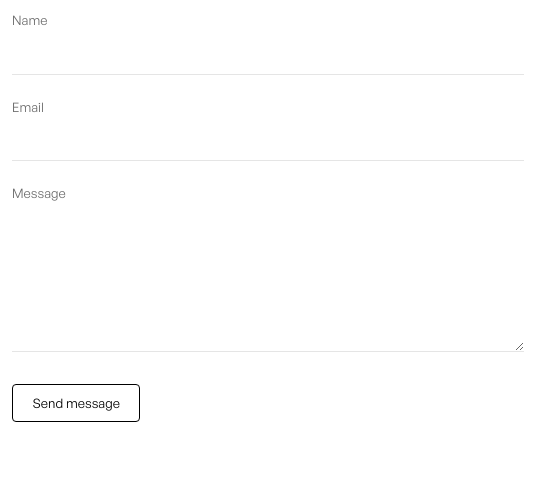
Test: ContactForm › shows the success copy when the request succeeds
Type "Jane" into the field labelled "Name" at (268, 56), box [12,37,524,75]
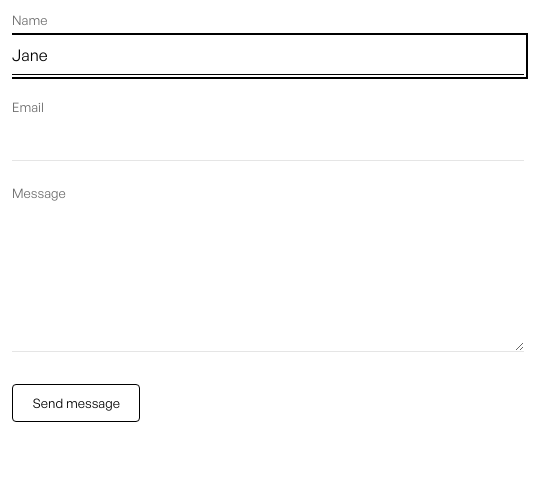
Type "jane@example.com" into the field labelled "Email" at (268, 142), box [12,124,524,161]
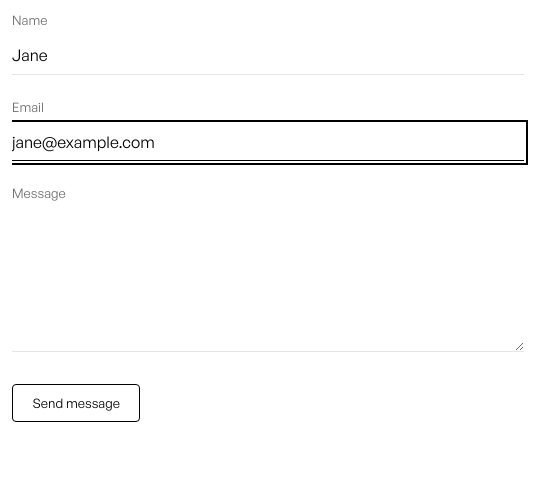
Type "Hello there" into the text box labelled "Message" at (268, 281), box [12,210,524,352]
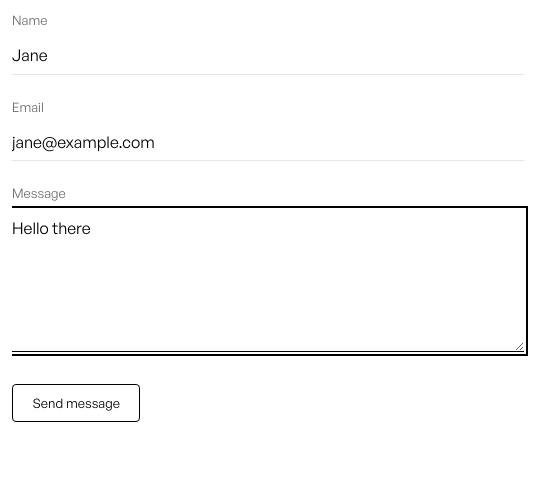
Click the button "Send message" at (76, 403), box [12,384,140,422]
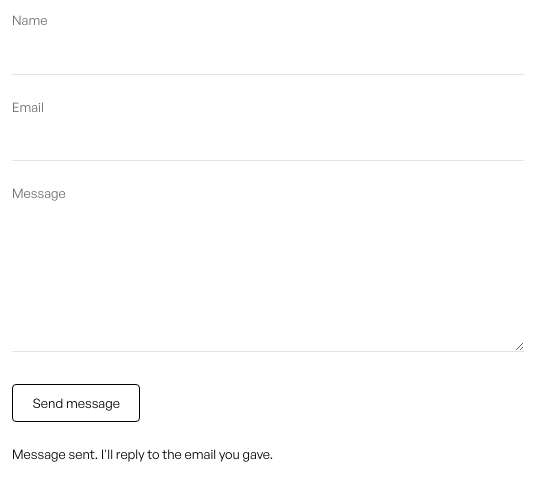
Expected: the text "Message sent. I'll reply to the email you gave." is shown, [12,446,273,462]
